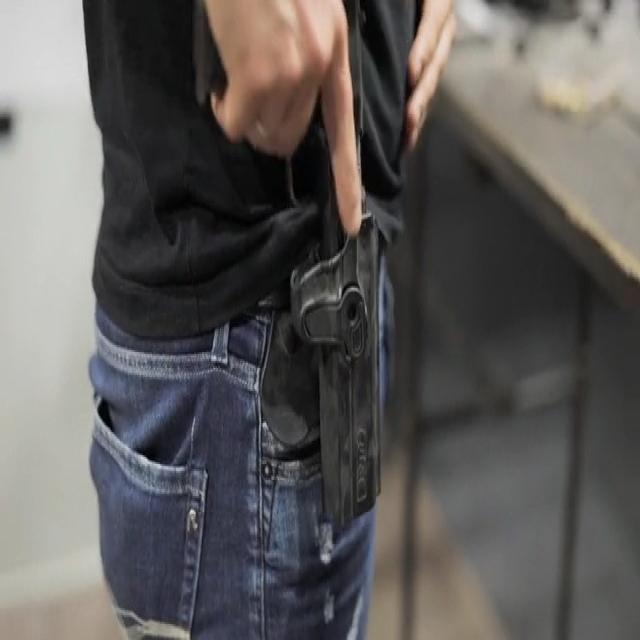Gun_Holder: (183, 2, 402, 544)
